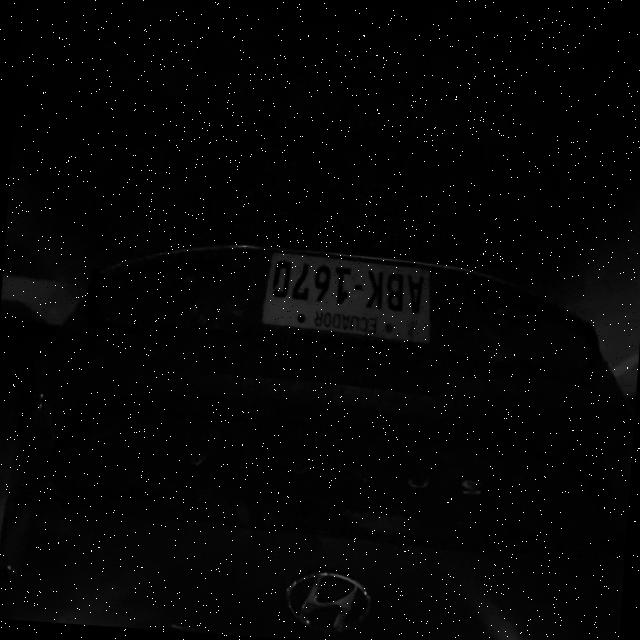Placa: (261, 252, 429, 342)
